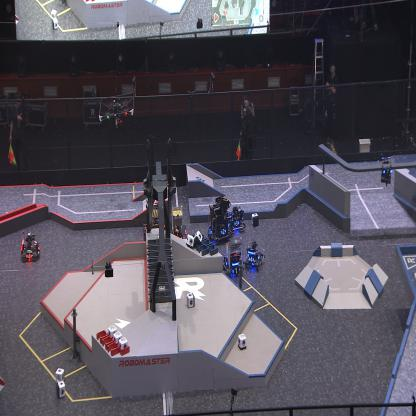car: (206, 195, 230, 248), (142, 198, 168, 244), (221, 234, 244, 276), (167, 203, 188, 246), (19, 230, 40, 263), (245, 239, 264, 269), (228, 205, 246, 233)
